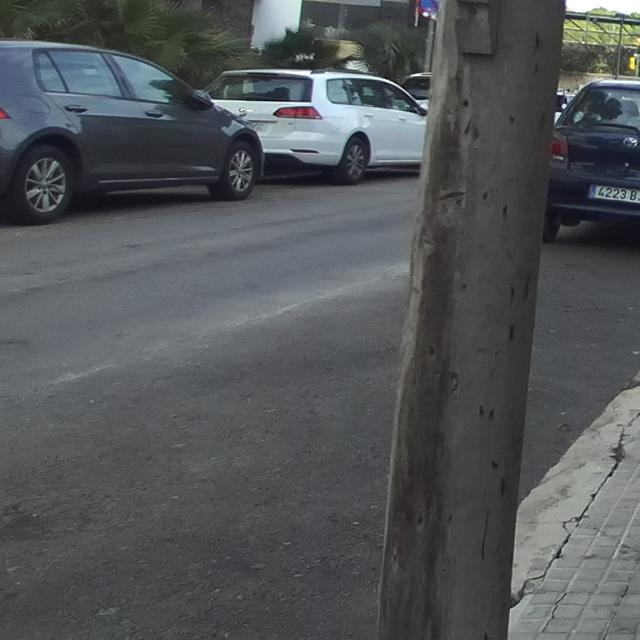calcada_quebrada: (530, 588, 578, 638)
